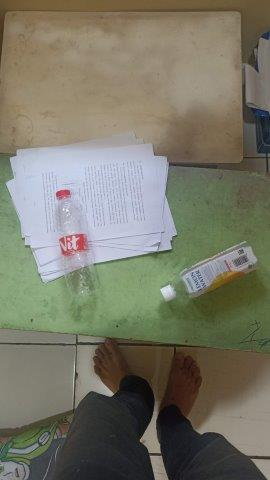botolplastik: (160, 241, 258, 315), (54, 190, 100, 307)
kertas: (5, 129, 177, 286)
